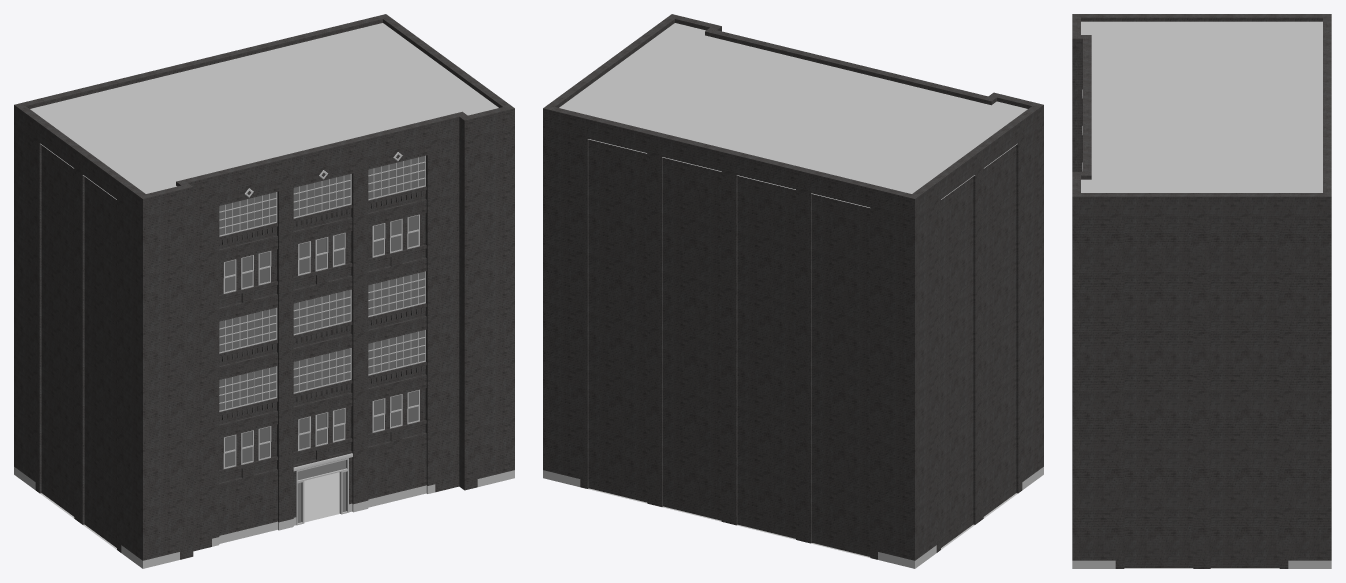
The model's file is Building_Small_3.gltf.
The picture shows the model from 3 angles, left to right: view 1: azimuth 30°, elevation 25°; view 2: azimuth 150°, elevation 25°; view 3: azimuth 270°, elevation 25°; orthographic projection.
Parts seen in each view (by area): view 1: Building_Small_2; view 2: Building_Small_2; view 3: Building_Small_2.
Boxes of the visible parts, left/top/right/bottom form: Building_Small_2: left=14, top=14, right=514, bottom=568; Building_Small_2: left=543, top=14, right=1043, bottom=568; Building_Small_2: left=1072, top=14, right=1331, bottom=568.
Size of what is drawn, in the model's own units: 20 by 19 by 12.
